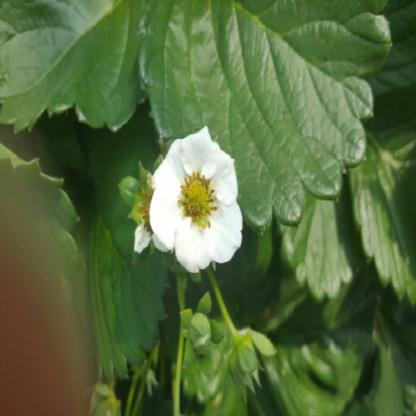Strawberry_Blossom_Blight: (174, 170, 221, 232)
